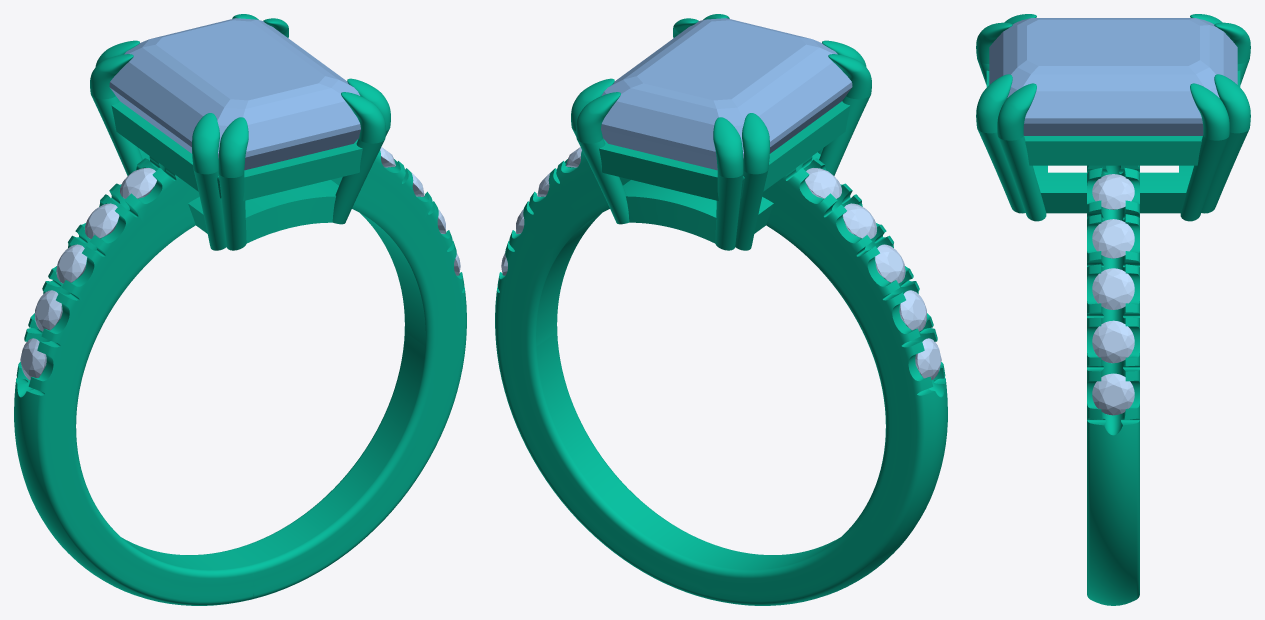
3 renders of one model, left to right at view 1: azimuth 30°, elevation 25°; view 2: azimuth 150°, elevation 25°; view 3: azimuth 270°, elevation 25°, orthographic.
Parts seen in each view (by area): view 1: /TR109.3dm, Diamond_Emerald, GemOnCrv (×5); view 2: /TR109.3dm, Diamond_Emerald, GemOnCrv (×5); view 3: /TR109.3dm, Diamond_Emerald, GemOnCrv (×5).
Part boxes in pixels (bbox=[...]): /TR109.3dm: bbox=[14, 14, 466, 605]; Diamond_Emerald: bbox=[109, 18, 360, 170]; GemOnCrv (×5): bbox=[20, 168, 156, 379]; /TR109.3dm: bbox=[495, 14, 947, 605]; Diamond_Emerald: bbox=[601, 18, 852, 170]; GemOnCrv (×5): bbox=[805, 168, 941, 379]; /TR109.3dm: bbox=[976, 14, 1250, 605]; Diamond_Emerald: bbox=[989, 18, 1237, 135]; GemOnCrv (×5): bbox=[1092, 174, 1134, 415].
Size of the model in its own units: 2.47 by 2.86 by 1.32.
